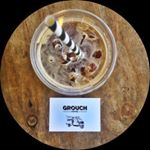cups: (27, 5, 119, 97)
